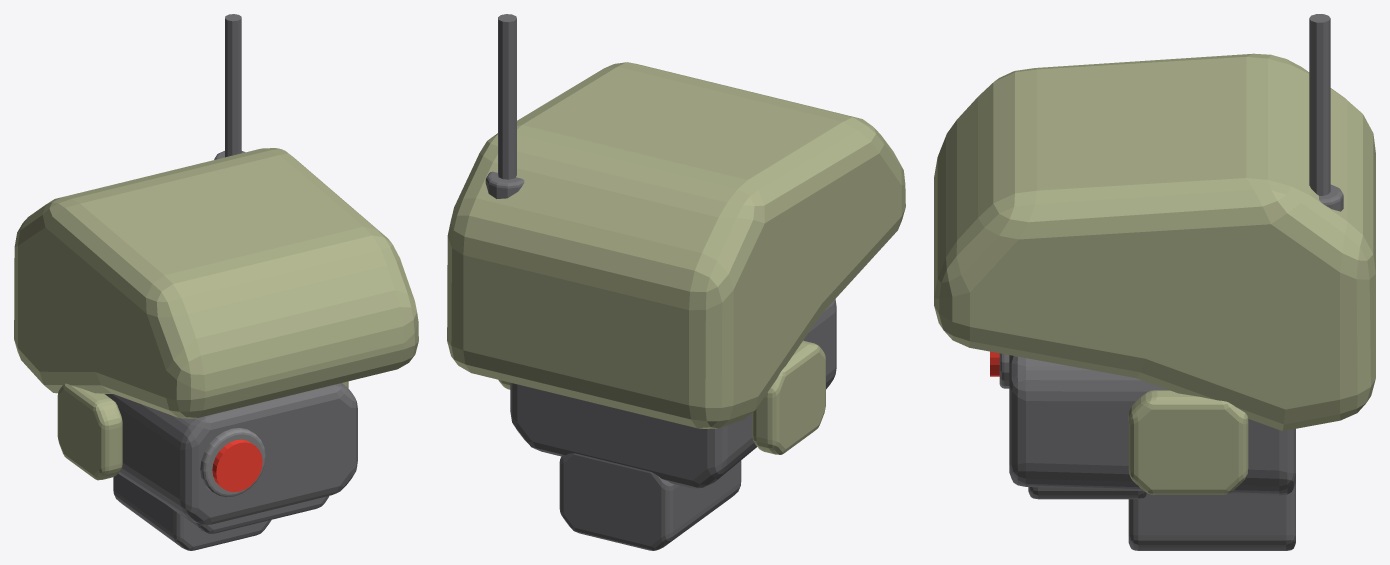
File: recon_sheet_head.glb
3 views of the same model, side by side, from view 1: azimuth 30°, elevation 25°; view 2: azimuth 150°, elevation 25°; view 3: azimuth 270°, elevation 25° (orthographic). The views are drawn at different scales.
Visible parts, largest first — view 1: Helmet, Face, Cheek1, Neck, Antenna, Eye, EyeRim, Jaw; view 2: Helmet, Face, Neck, Cheek1, Antenna, AntennaBase; view 3: Helmet, Face, Cheek, Neck, Antenna, Jaw.
Part boxes in pixels (x1,y1,x2,y2): Helmet: [14, 148, 418, 418]; Face: [105, 383, 357, 525]; Cheek1: [57, 383, 122, 480]; Neck: [113, 473, 271, 550]; Antenna: [225, 14, 241, 157]; Eye: [212, 439, 262, 492]; EyeRim: [200, 428, 265, 497]; Jaw: [169, 496, 329, 533]; Helmet: [447, 62, 905, 428]; Face: [510, 299, 836, 488]; Neck: [559, 453, 741, 550]; Cheek1: [752, 340, 825, 454]; Antenna: [498, 14, 516, 179]; AntennaBase: [485, 171, 524, 198]; Helmet: [934, 53, 1375, 431]; Face: [1009, 355, 1295, 495]; Cheek: [1128, 390, 1248, 494]; Neck: [1128, 483, 1295, 550]; Antenna: [1309, 14, 1330, 195]; Jaw: [1028, 487, 1146, 499].
Bounding box in the file's own units: 1.5 × 2.6 × 1.85.
